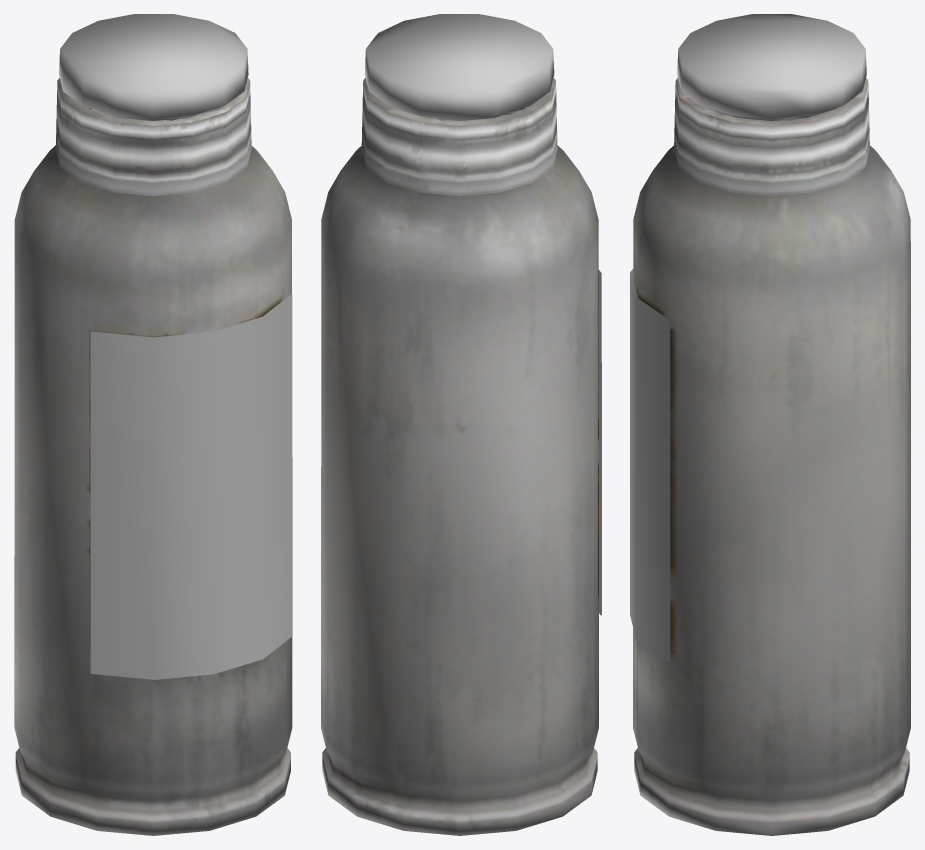
File: botte_of_juice_empty.dae
3 views of the same model, side by side, from view 1: azimuth 30°, elevation 25°; view 2: azimuth 150°, elevation 25°; view 3: azimuth 270°, elevation 25° (orthographic).
Parts seen in each view (by area): view 1: botte_of_juice_empty, botte_of_juice_empty_cap; view 2: botte_of_juice_empty, botte_of_juice_empty_cap; view 3: botte_of_juice_empty, botte_of_juice_empty_cap.
Part boxes in pixels (x1,y1,x2,y2): botte_of_juice_empty: (14, 78, 292, 835); botte_of_juice_empty_cap: (59, 14, 292, 679); botte_of_juice_empty: (321, 78, 598, 835); botte_of_juice_empty_cap: (364, 14, 601, 615); botte_of_juice_empty: (633, 78, 910, 835); botte_of_juice_empty_cap: (630, 14, 866, 661).
Size of the model in its own units: 8.59 by 24.84 by 8.73.
